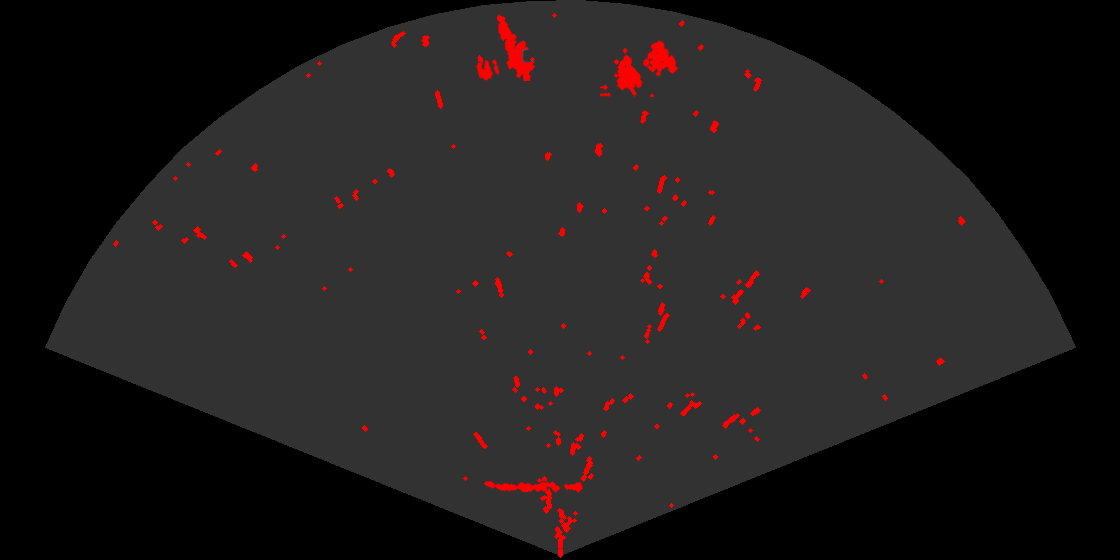ball: (475, 58, 501, 82)
cage: (600, 39, 680, 97)
chain: (482, 479, 583, 494)
frogman: (495, 13, 536, 81)
